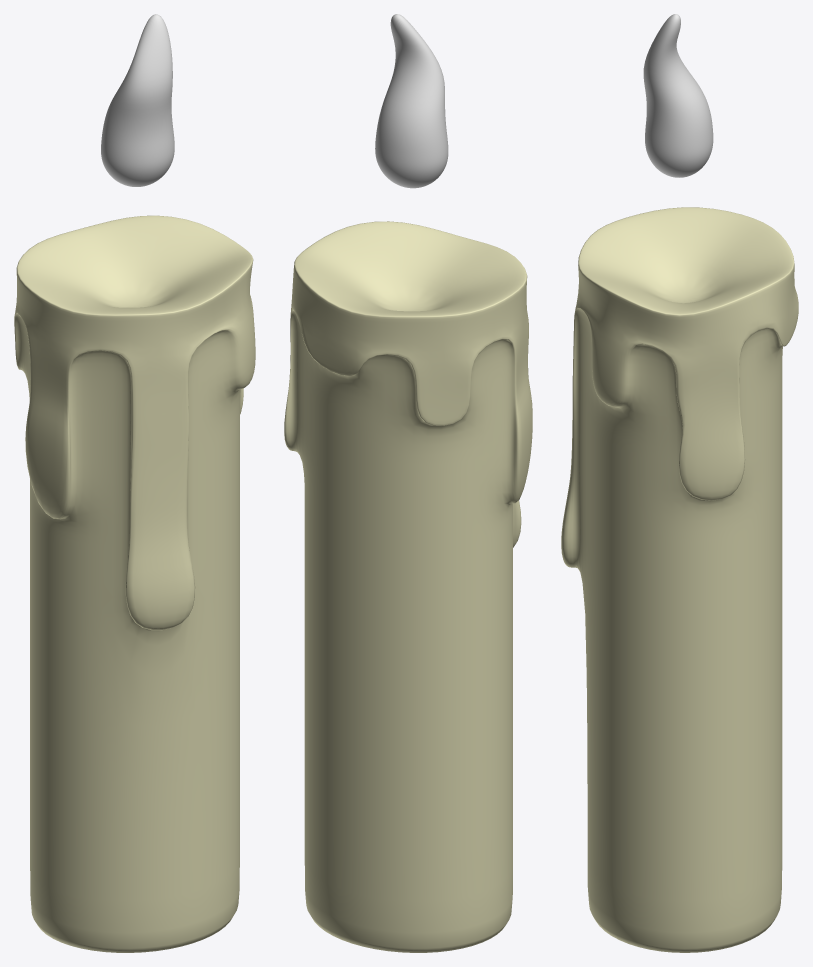
Rendered from Vela.fbx.
3 renders of one model, left to right at view 1: azimuth 30°, elevation 25°; view 2: azimuth 150°, elevation 25°; view 3: azimuth 270°, elevation 25°, orthographic.
Parts seen in each view (by area): view 1: Vela; view 2: Vela; view 3: Vela.
Part boxes in pixels (x1,y1,x2,y2): Vela: (14,14,255,952); Vela: (284,14,532,952); Vela: (561,14,798,952).
Bounding box in the file's own units: 0.4617 × 1.83 × 0.4356.
